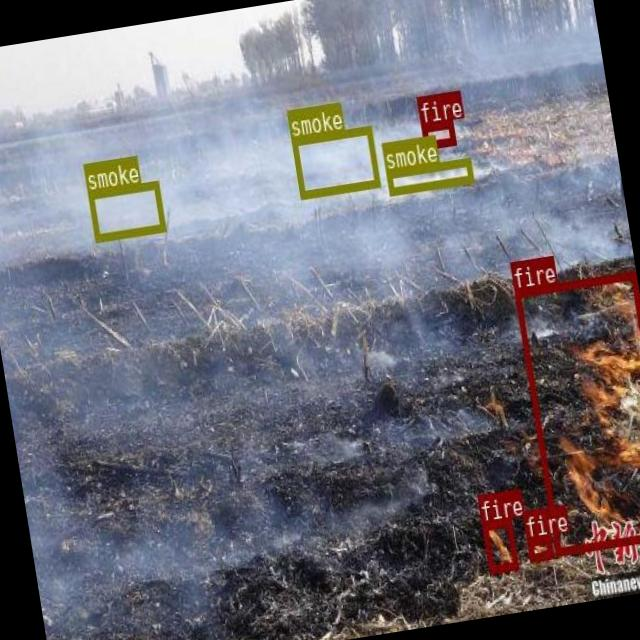fire: (514, 270, 640, 554), (482, 518, 517, 572), (421, 120, 455, 148), (527, 535, 553, 560)
smoke: (290, 125, 380, 198), (87, 180, 165, 240), (386, 156, 474, 194)
